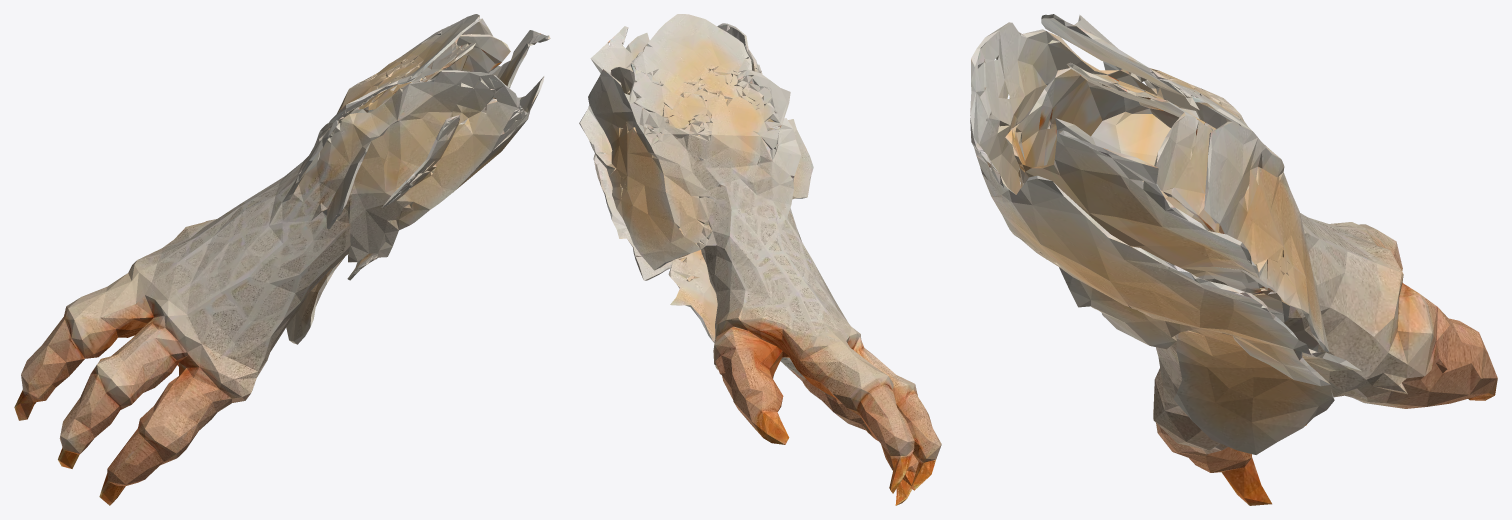
The model's file is foot (28).glb.
The picture shows the model from 3 angles, left to right: view 1: azimuth 30°, elevation 25°; view 2: azimuth 150°, elevation 25°; view 3: azimuth 270°, elevation 25°; orthographic projection. The views are drawn at different scales.
Visible parts, largest first — view 1: Hy21_Mesh.obj; view 2: Hy21_Mesh.obj; view 3: Hy21_Mesh.obj.
Boxes of the visible parts, x1,y1,x2,y2 form: Hy21_Mesh.obj: (14,14,550,505); Hy21_Mesh.obj: (579,14,941,505); Hy21_Mesh.obj: (970,14,1497,505).
Size of the model in its own units: 1.95 by 1.92 by 1.26.
1 material, 1 textured.
